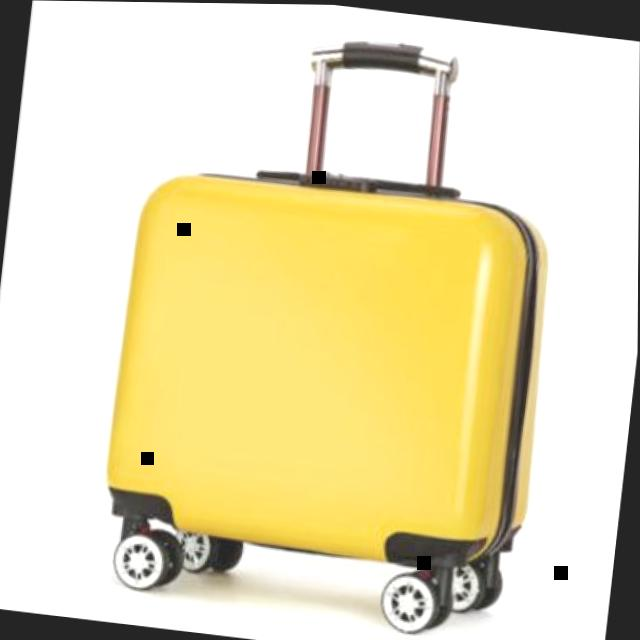luggage: (79, 135, 574, 640)
